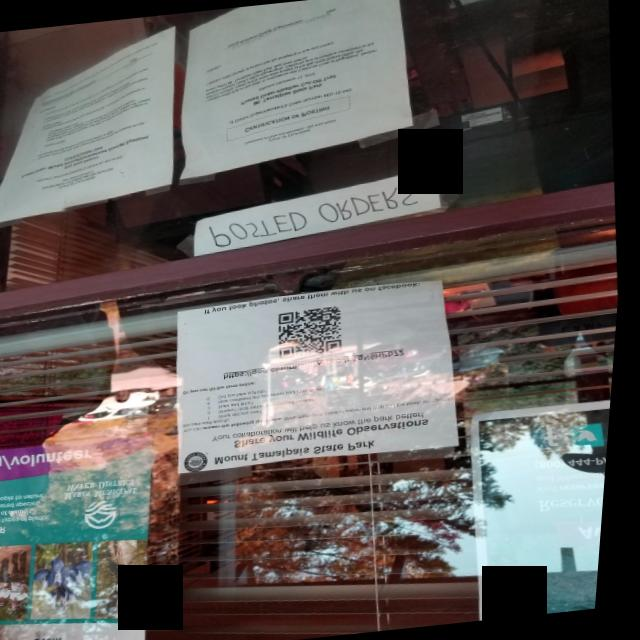QR_CODE: (266, 297, 367, 369)
